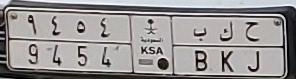4: (99, 17, 115, 68), (49, 14, 64, 67)
5: (75, 20, 89, 67)
9: (26, 14, 40, 65)
B: (192, 26, 208, 72)
J: (242, 20, 266, 73)
K: (219, 21, 234, 73)
